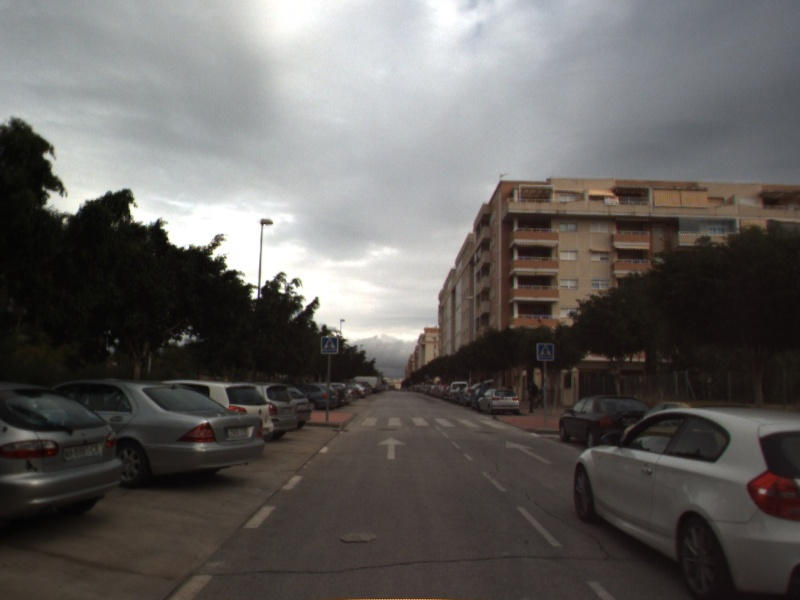STRAIGHT: (503, 439, 555, 466), (375, 435, 409, 461)
